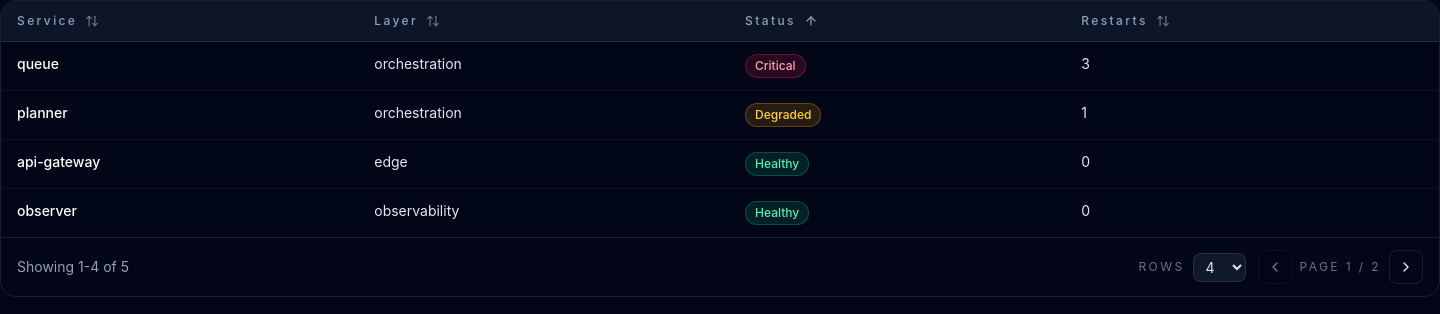
Test: OverviewHealthTable › renders the first page and supports paging through service rows
Expected: the text "queue" is shown, [17, 55, 59, 72]
Expected: the text "worker" is not shown
Click the button named "next page": (1406,267) [1389, 250, 1423, 284]
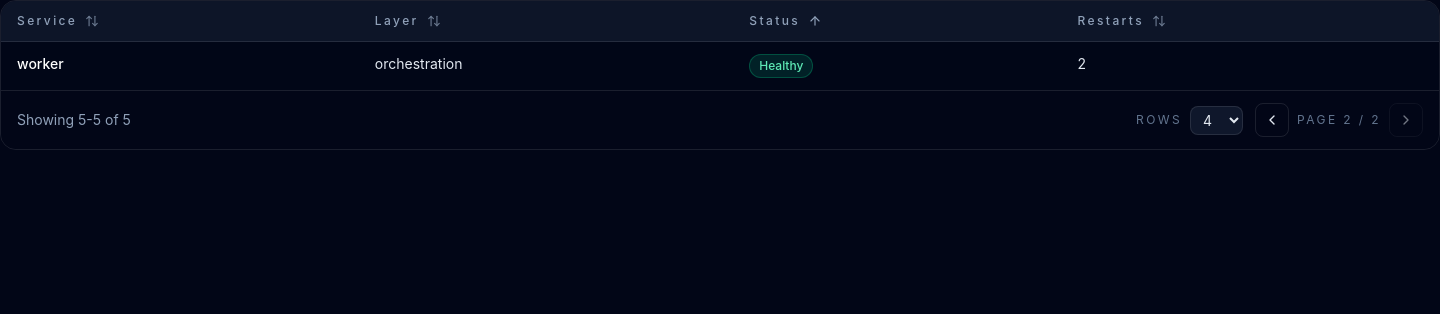
Expected: the text "worker" is shown, [17, 55, 64, 72]
Expected: the text "Page 2 / 2" is shown, [1297, 112, 1381, 128]
